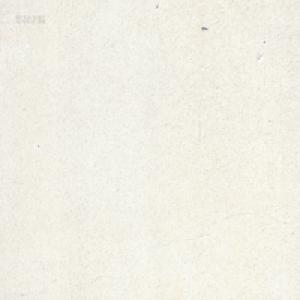Nail: (201, 25, 208, 30)
